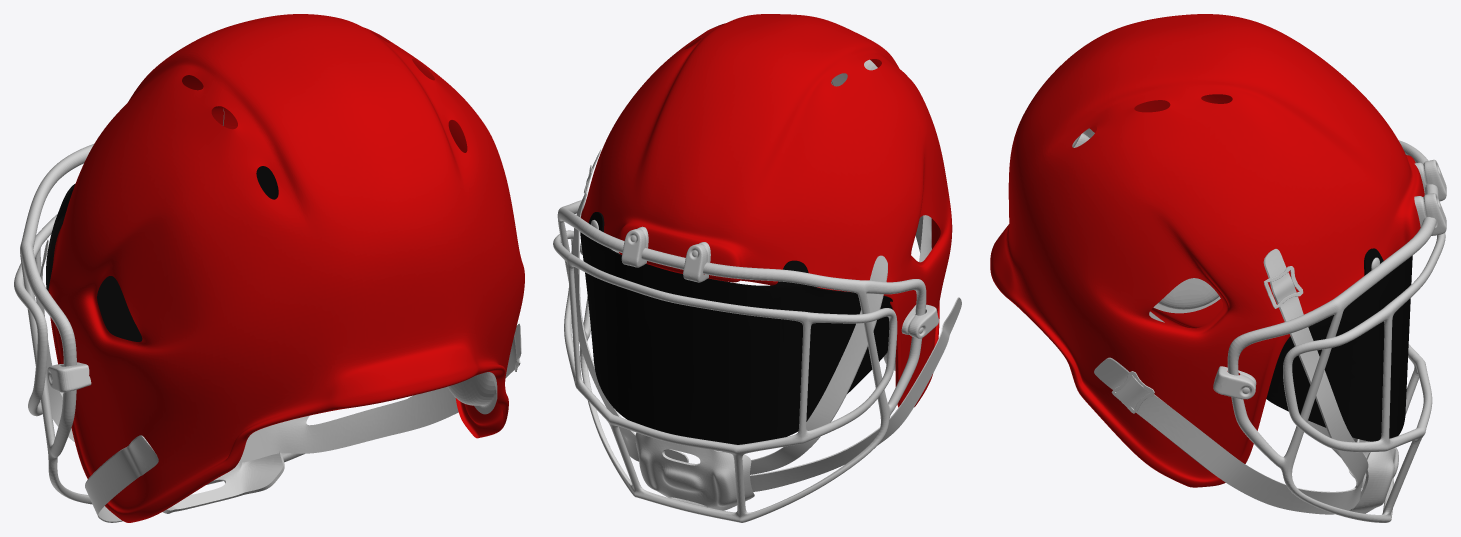
File: casco_v2.obj
The picture shows the model from 3 angles, left to right: view 1: azimuth 30°, elevation 25°; view 2: azimuth 150°, elevation 25°; view 3: azimuth 270°, elevation 25°; orthographic projection. The views are drawn at different scales.
Parts seen in each view (by area): view 1: Plane.004; view 2: Plane.004; view 3: Plane.004.
Part boxes in pixels (x1,y1,x2,y2): Plane.004: (14,14,524,522); Plane.004: (553,14,961,522); Plane.004: (990,14,1446,522).
Bounding box in the file's own units: 2.14 × 2.49 × 2.21.
